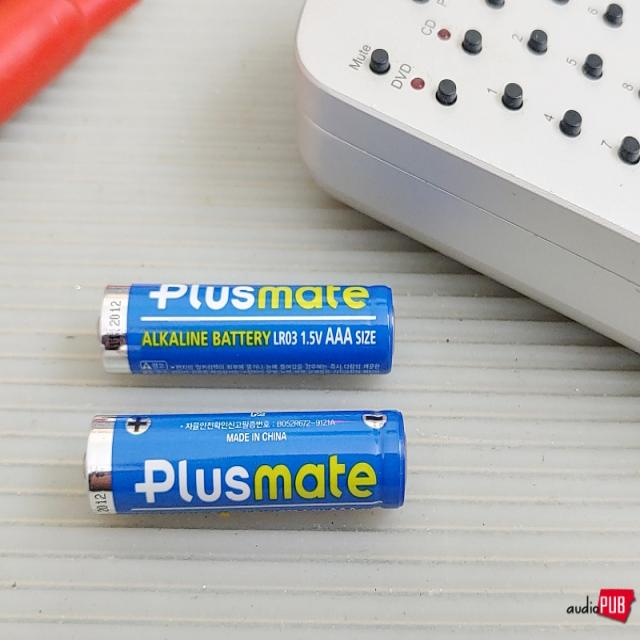battery: (82, 406, 418, 516), (98, 280, 398, 378)
